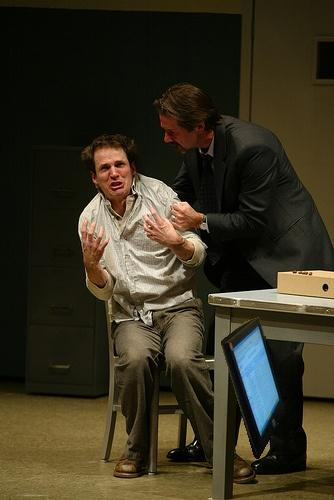tampered: (222, 318, 287, 459)
